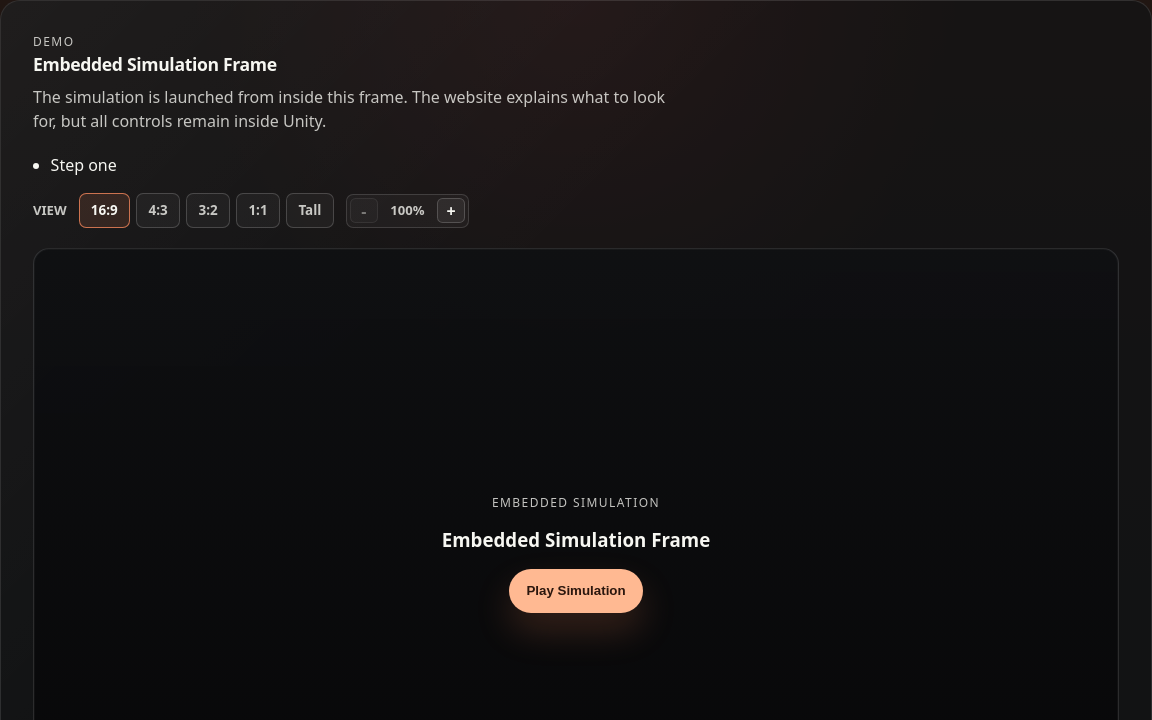
Test: unity embed › enters the ready state when the loader and runtime bridge succeed
Click the button "Play Simulation" at coordinates (576, 591), box [509, 569, 643, 613]
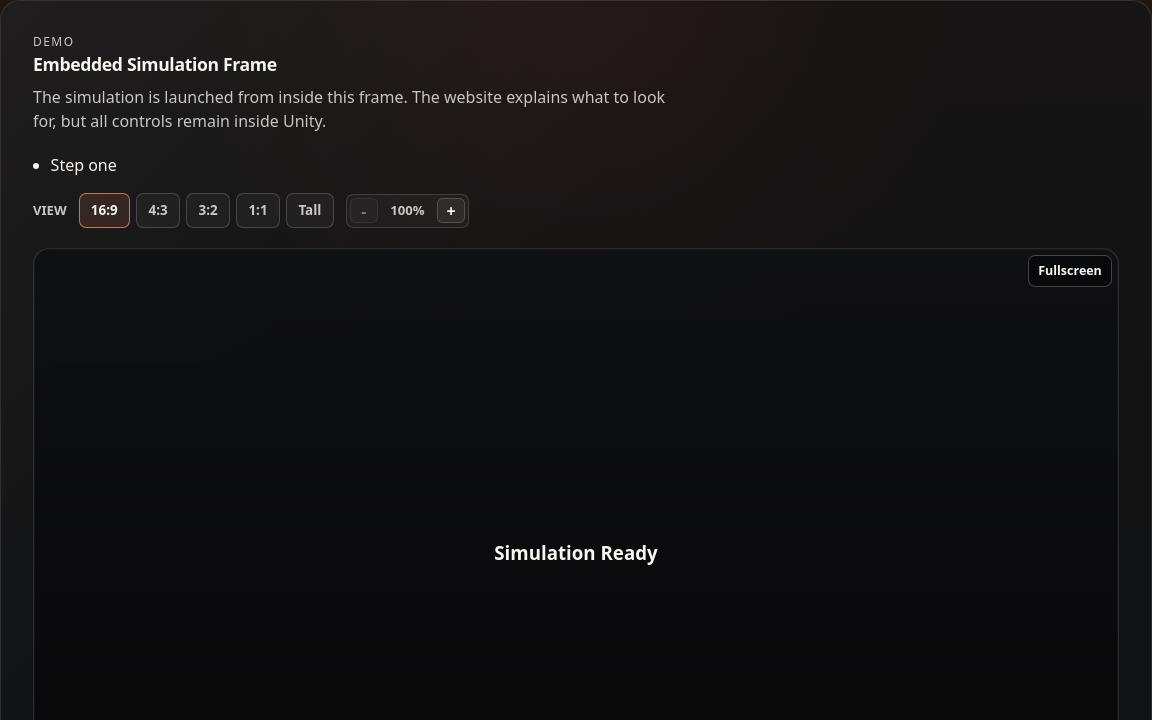
Expected: the heading "Simulation Ready" is shown, [494, 539, 658, 567]
